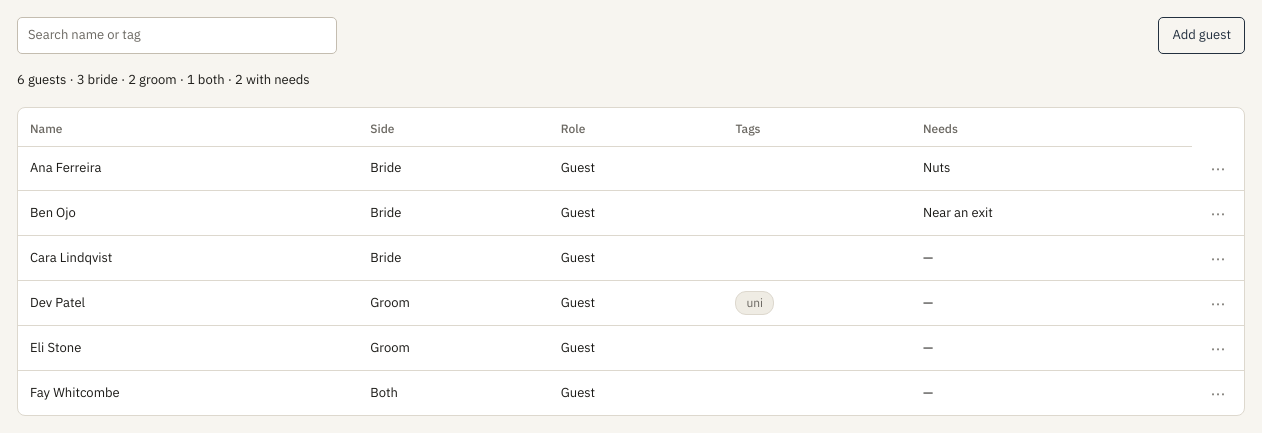
search (C23) › filters to the row matching a tag substring
Type "uni" into the field labelled "Search name or tag" at (177, 35), box [17,17,337,54]
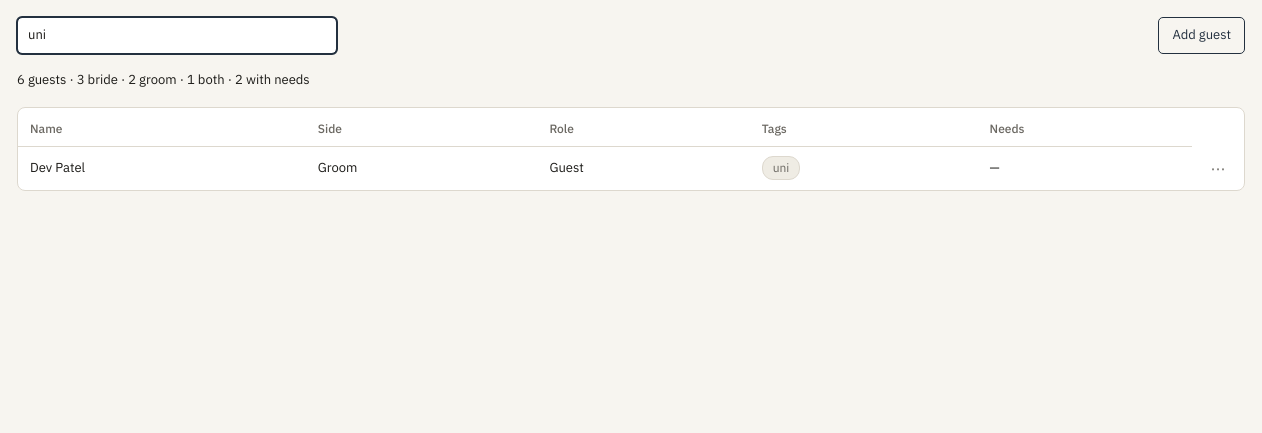
expect the text "Dev Patel" is shown: met, box [18,146,306,190]
expect the text "Ana Ferreira" is gone: met
